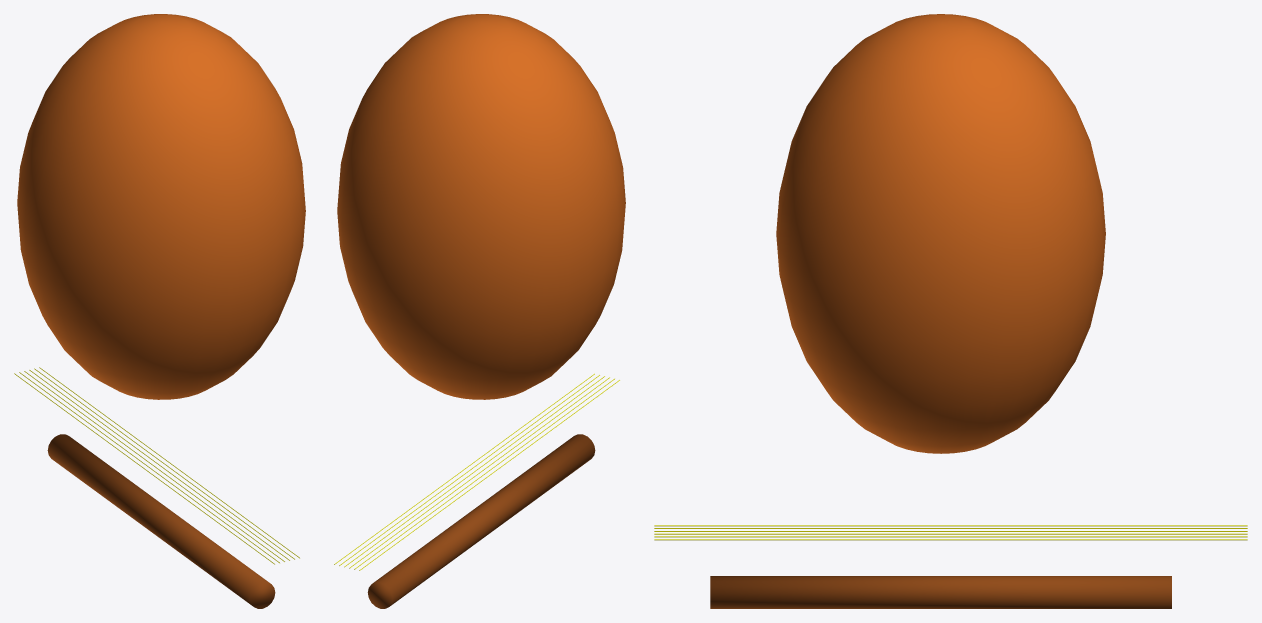
Rendered from dreadnought.obj.
3 renders of one model, left to right at view 1: azimuth 30°, elevation 25°; view 2: azimuth 150°, elevation 25°; view 3: azimuth 270°, elevation 25°, orthographic. The views are drawn at different scales.
Visible parts, largest first — view 1: Acoustic_Body_Sphere.001; view 2: Acoustic_Body_Sphere.001; view 3: Acoustic_Body_Sphere.001.
Part boxes in pixels (x1,y1,x2,y2): Acoustic_Body_Sphere.001: (14, 14, 305, 608); Acoustic_Body_Sphere.001: (334, 14, 625, 608); Acoustic_Body_Sphere.001: (654, 14, 1247, 608).
Bounding box in the file's own units: 0.5 × 0.975 × 0.9.
